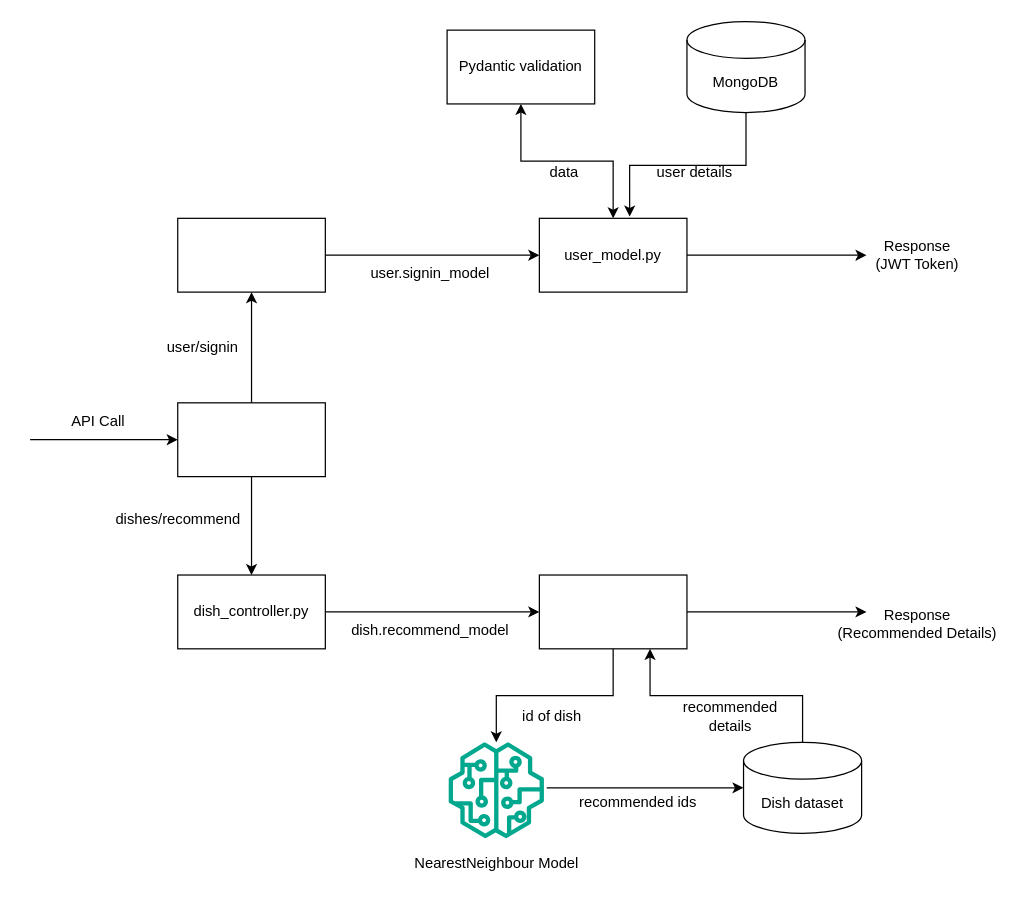
This 1031x904 diagram has some shape labels left out. Here are the shapes that lost their labels. From the top down, the centre of each, then its label:
(251,254): user_controller.py
(251,439): app.py
(612,611): dish_model
